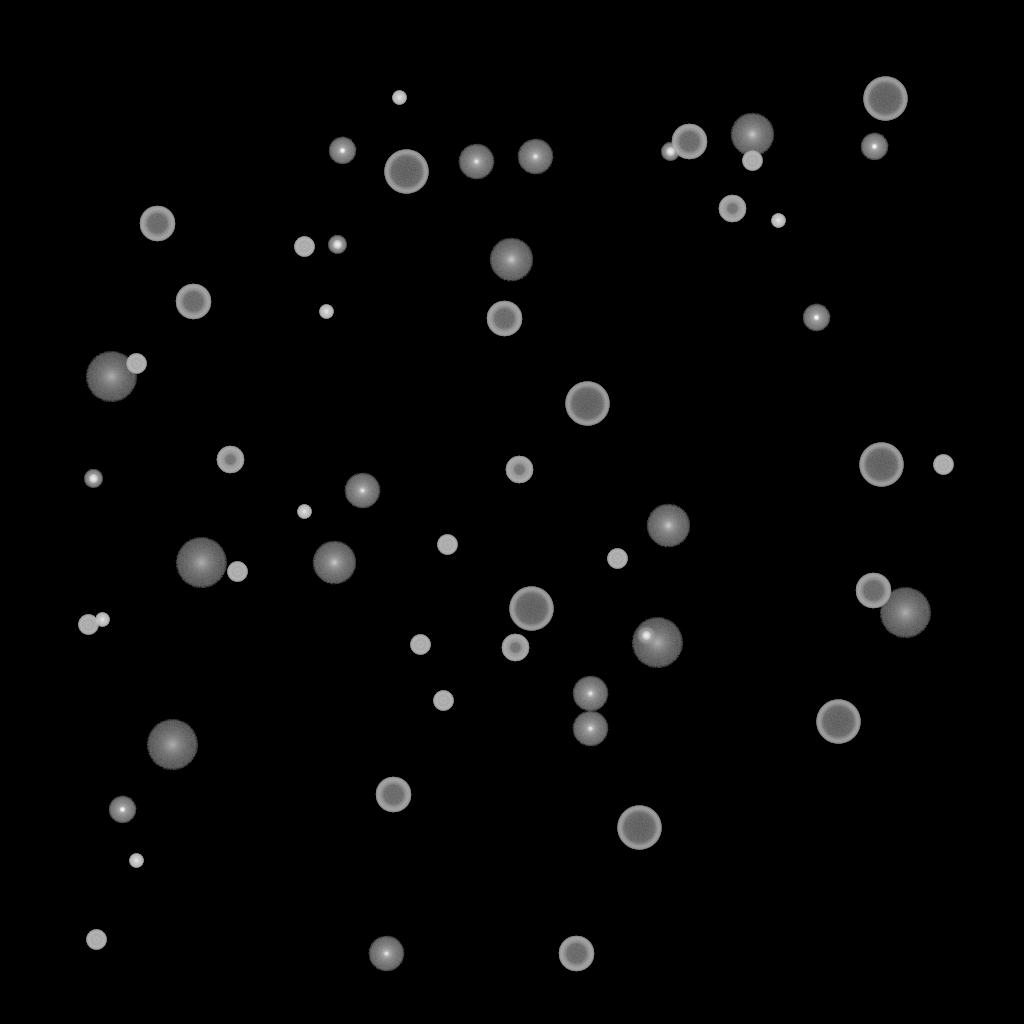depth:-10: (328, 137, 356, 165), (108, 796, 136, 824), (802, 304, 830, 332), (860, 133, 888, 161)
depth:-20: (328, 236, 346, 254), (637, 627, 655, 645), (661, 143, 679, 161), (84, 470, 102, 488)
depth:-30: (771, 214, 785, 228), (297, 505, 311, 519), (129, 854, 143, 868), (95, 613, 109, 627), (392, 91, 406, 105), (319, 305, 333, 319)
depth:-40: (294, 237, 314, 257), (78, 615, 98, 635), (607, 549, 627, 569), (433, 691, 453, 711), (86, 930, 106, 950), (742, 151, 762, 171), (437, 535, 457, 555), (933, 455, 953, 475), (126, 354, 146, 374), (410, 635, 430, 655), (227, 562, 247, 582)
depth:-50: (216, 446, 244, 474), (718, 195, 746, 223), (501, 634, 529, 662), (505, 456, 533, 484)
depth:-60: (671, 124, 707, 160), (139, 206, 175, 242), (375, 777, 411, 813), (486, 301, 522, 337), (558, 936, 594, 972), (855, 573, 891, 609), (175, 284, 211, 320)
depth:-70: (816, 700, 860, 744), (509, 587, 553, 631), (384, 150, 428, 194), (859, 443, 903, 487), (863, 77, 907, 121), (617, 806, 661, 850), (565, 382, 609, 426)
depth:0: (458, 144, 494, 180), (572, 676, 608, 712), (572, 711, 608, 747), (344, 473, 380, 509), (517, 139, 553, 175), (368, 936, 404, 972)
depth:10: (646, 504, 690, 548), (730, 113, 774, 157), (312, 541, 356, 585), (489, 238, 533, 282)
depth:20: (879, 588, 931, 638), (175, 538, 227, 588), (146, 720, 198, 770), (85, 352, 137, 402), (631, 618, 683, 668)
